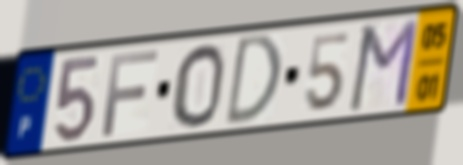5: (50, 51, 105, 145), (301, 29, 353, 114)
D: (222, 31, 285, 130)
F: (99, 46, 162, 139)
M: (344, 16, 421, 115)
O: (170, 41, 227, 130)
